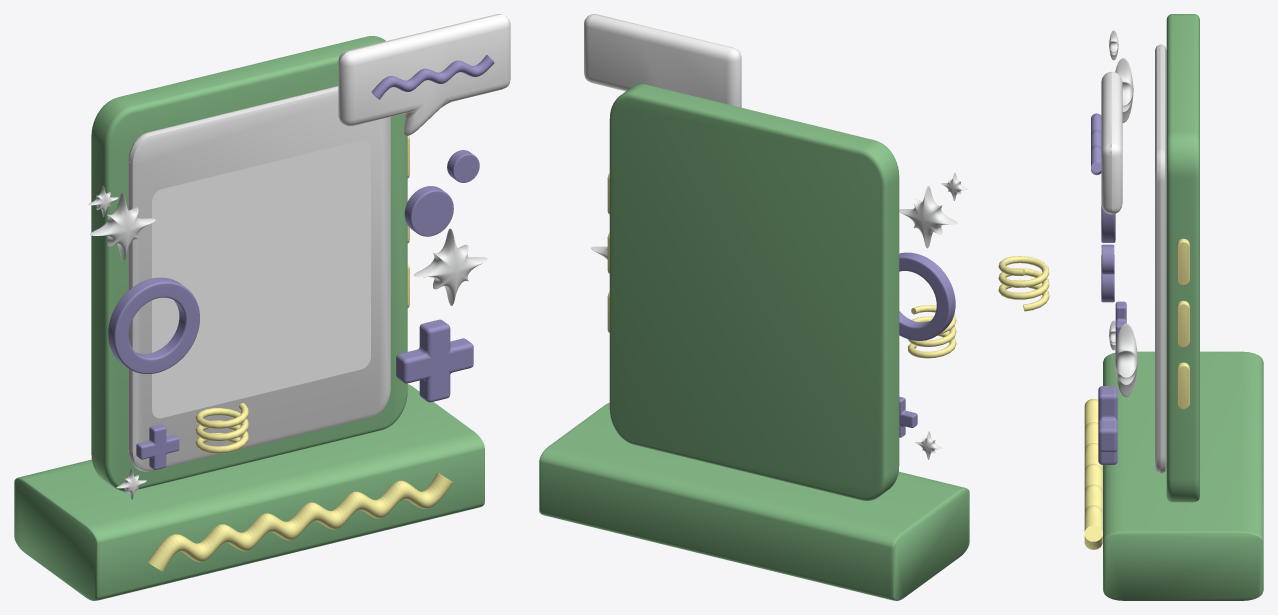
File: PictureFrameModal.gltf
3 renders of one model, left to right at view 1: azimuth 30°, elevation 25°; view 2: azimuth 150°, elevation 25°; view 3: azimuth 270°, elevation 25°, orthographic. The views are drawn at different scales.
Parts seen in each view (by area): view 1: Placeholder, Base, Pale_background, Main, Dialog, Cube.003, Circle_01, Cross_02, Spark_03, Circle_02, Spiral, Spark_01 (+3 smaller); view 2: Main, Base, Dialog, Circle_01, Spark_01, Spiral; view 3: Base, Main, Pale_background, Dialog, Cube.003, Spiral, Cross_02, Spark_03, Spark_01, Cube.007, Side_btn_03, Side_btn_01 (+4 smaller).
Part boxes in pixels (x1,y1,x2,y2): Placeholder: (152, 140, 370, 418); Base: (14, 384, 484, 600); Pale_background: (128, 86, 390, 471); Main: (91, 36, 407, 491); Dialog: (338, 14, 510, 136); Cube.003: (147, 472, 452, 571); Circle_01: (108, 277, 199, 373); Cross_02: (396, 319, 473, 402); Spark_03: (413, 228, 487, 305); Circle_02: (404, 186, 453, 236); Spiral: (195, 403, 248, 453); Spark_01: (90, 193, 155, 261); Main: (609, 84, 899, 500); Base: (539, 403, 969, 600); Dialog: (584, 14, 741, 107); Circle_01: (899, 252, 955, 340); Spark_01: (899, 186, 957, 248); Spiral: (907, 305, 956, 358); Base: (1103, 351, 1263, 600); Main: (1166, 14, 1199, 502); Pale_background: (1155, 44, 1166, 473); Dialog: (1101, 71, 1122, 214); Cube.003: (1084, 399, 1102, 549); Spiral: (998, 256, 1049, 311); Cross_02: (1098, 386, 1117, 464); Spark_03: (1114, 323, 1137, 397); Spark_01: (1115, 58, 1133, 122); Cube.007: (1091, 113, 1101, 175); Side_btn_03: (1177, 362, 1189, 409); Side_btn_01: (1177, 238, 1189, 285).
Size of the model in its own units: 1.94 by 2.16 by 1.11.
Materials: 7 (1 with a texture image).
